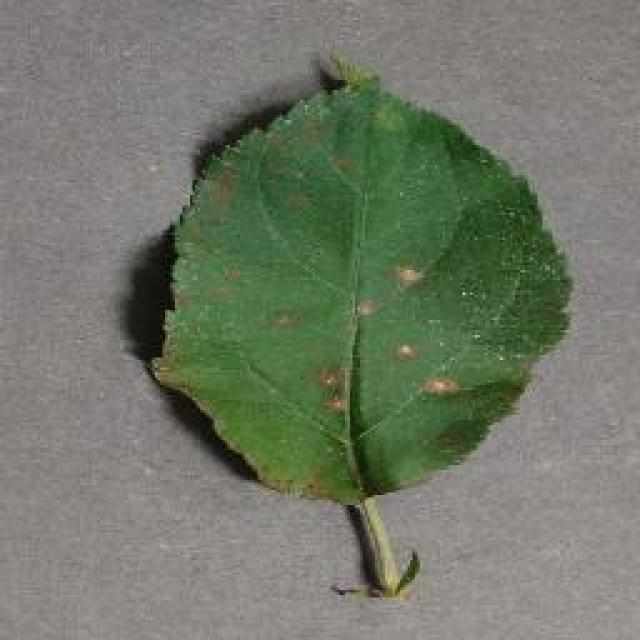apple cedar apple rust: (145, 50, 575, 598)
